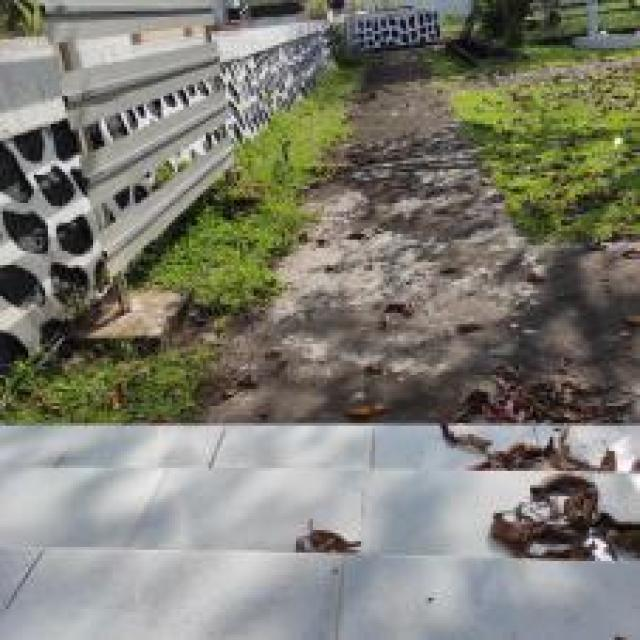downstair: (5, 428, 624, 631)
